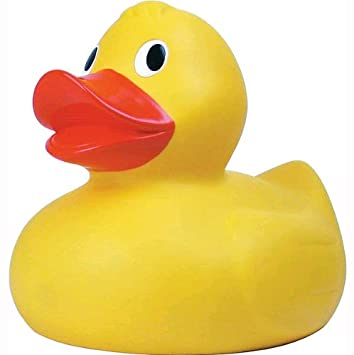Duck: (10, 1, 346, 353)
